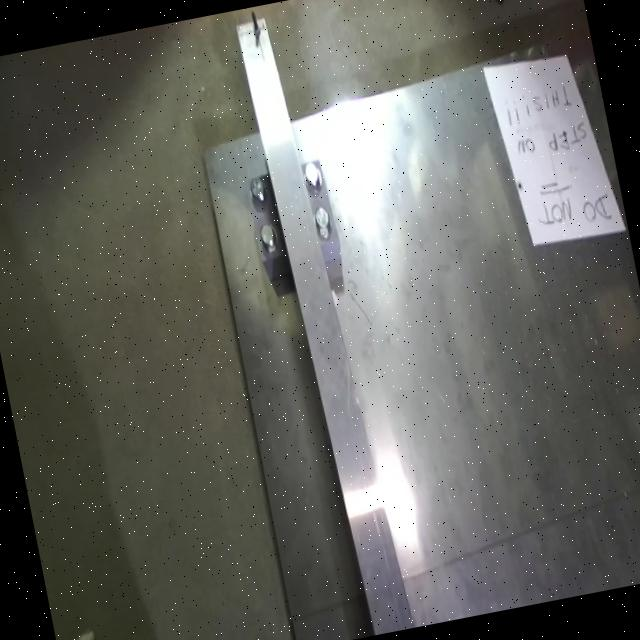blocks: (238, 150, 352, 293)
